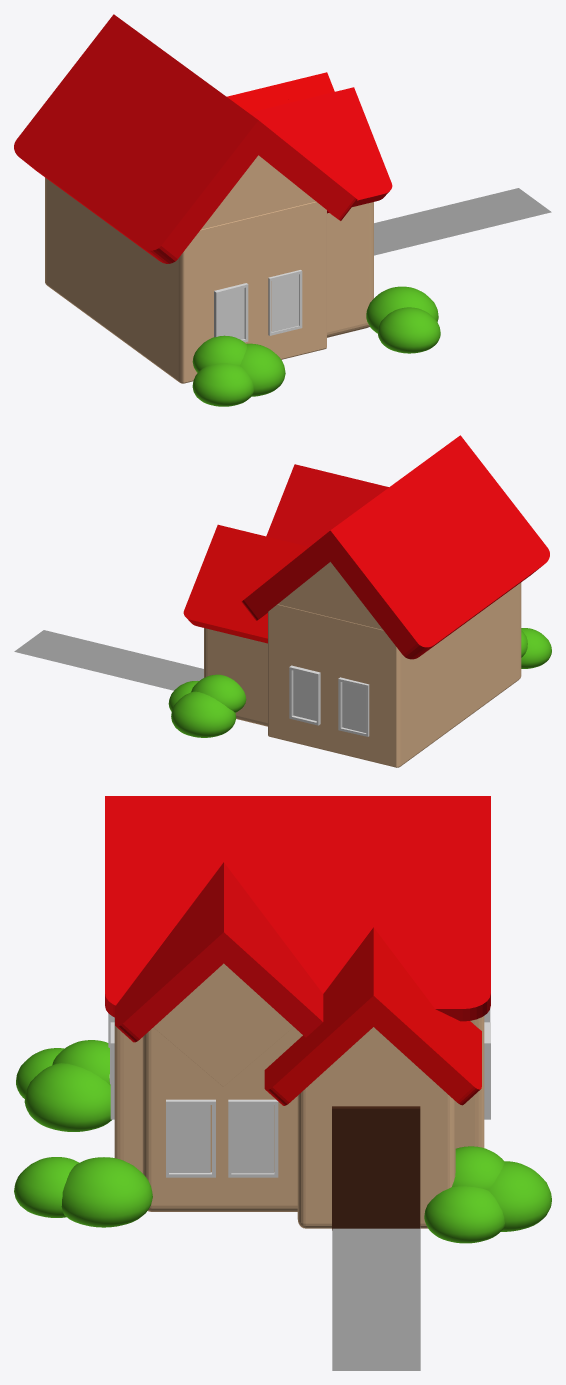
File: red wala ghar.fbx
The picture shows the model from 3 angles, top to bottom: view 1: azimuth 30°, elevation 25°; view 2: azimuth 150°, elevation 25°; view 3: azimuth 270°, elevation 25°; orthographic projection. The views are drawn at different scales.
Parts seen in each view (by area): view 1: Cube.003, Cube.005, Cube.004, Cube.002, Plane.019, Sphere.001, Sphere.006, Cube.006, Sphere.005, Sphere, Plane.011, Sphere.007 (+3 smaller); view 2: Cube.003, Cube.005, Cube.006, Cube.004, Plane.019, Cube.001, Sphere.002, Sphere.004, Plane.010, Plane.009, Sphere.006, Cube.049 (+1 smaller); view 3: Cube.003, Cube.002, Cube.006, Cube.004, Cube.001, Plane.019, Cube, Cube.005, Sphere, Sphere.005, Sphere.003, Sphere.002 (+9 smaller).
Boxes of the visible parts, x1,y1,x2,y2 form: Cube.003: [14, 14, 357, 263]; Cube.005: [45, 155, 326, 383]; Cube.004: [249, 87, 392, 213]; Cube.002: [327, 202, 373, 337]; Plane.019: [374, 188, 551, 255]; Sphere.001: [377, 307, 440, 353]; Sphere.006: [192, 363, 253, 406]; Cube.006: [227, 72, 334, 112]; Sphere.005: [239, 343, 285, 396]; Sphere: [366, 286, 438, 333]; Plane.011: [272, 274, 298, 331]; Sphere.007: [192, 335, 246, 372]; Cube.003: [241, 435, 549, 659]; Cube.005: [268, 562, 521, 767]; Cube.006: [183, 524, 308, 643]; Cube.004: [266, 464, 388, 546]; Plane.019: [14, 630, 203, 690]; Cube.001: [204, 628, 267, 726]; Sphere.002: [171, 691, 236, 737]; Sphere.004: [191, 674, 246, 712]; Plane.010: [342, 682, 366, 732]; Plane.009: [293, 670, 316, 720]; Sphere.006: [521, 628, 551, 668]; Cube.049: [289, 665, 320, 725]; Cube.003: [105, 796, 490, 1021]; Cube.002: [142, 963, 302, 1211]; Cube.006: [264, 927, 481, 1105]; Cube.004: [115, 862, 323, 1042]; Cube.001: [297, 1027, 455, 1228]; Plane.019: [332, 1226, 420, 1370]; Cube: [332, 1106, 420, 1230]; Cube.005: [114, 1016, 484, 1172]; Sphere: [61, 1157, 152, 1227]; Sphere.005: [24, 1063, 111, 1131]; Sphere.003: [424, 1186, 504, 1243]; Sphere.002: [488, 1161, 551, 1231].
Bounding box in the file's own units: 1194 × 604 × 864.
